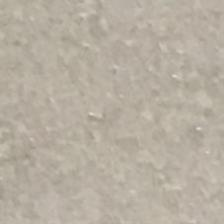Non_Crack: (5, 10, 223, 224)
